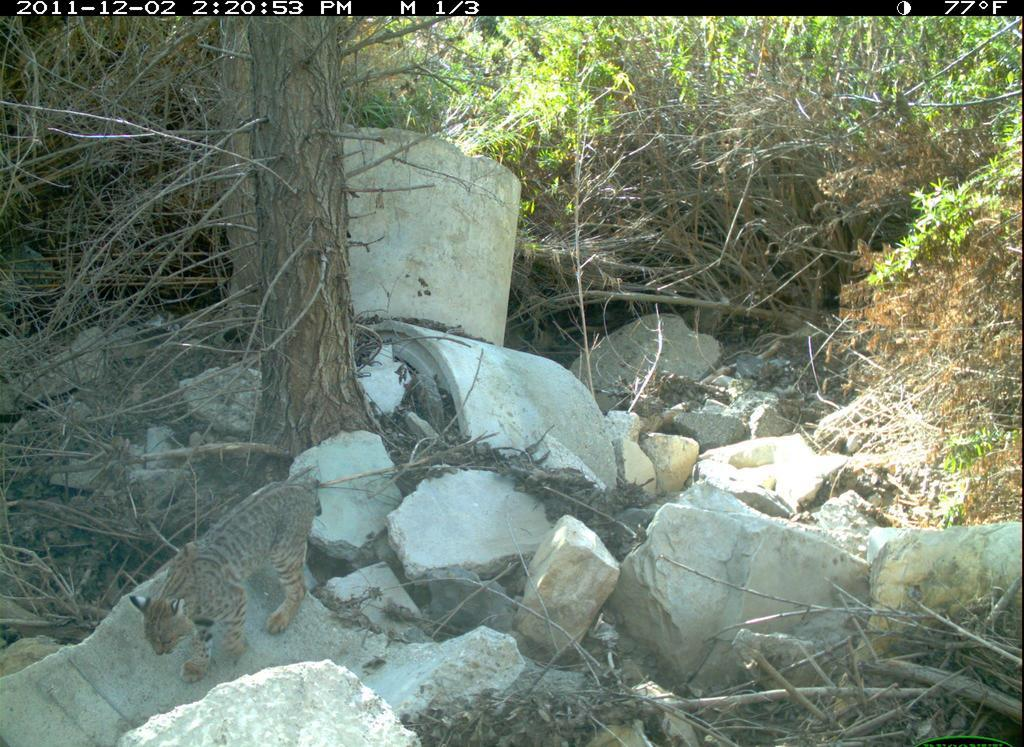bobcat: (94, 473, 390, 692)
